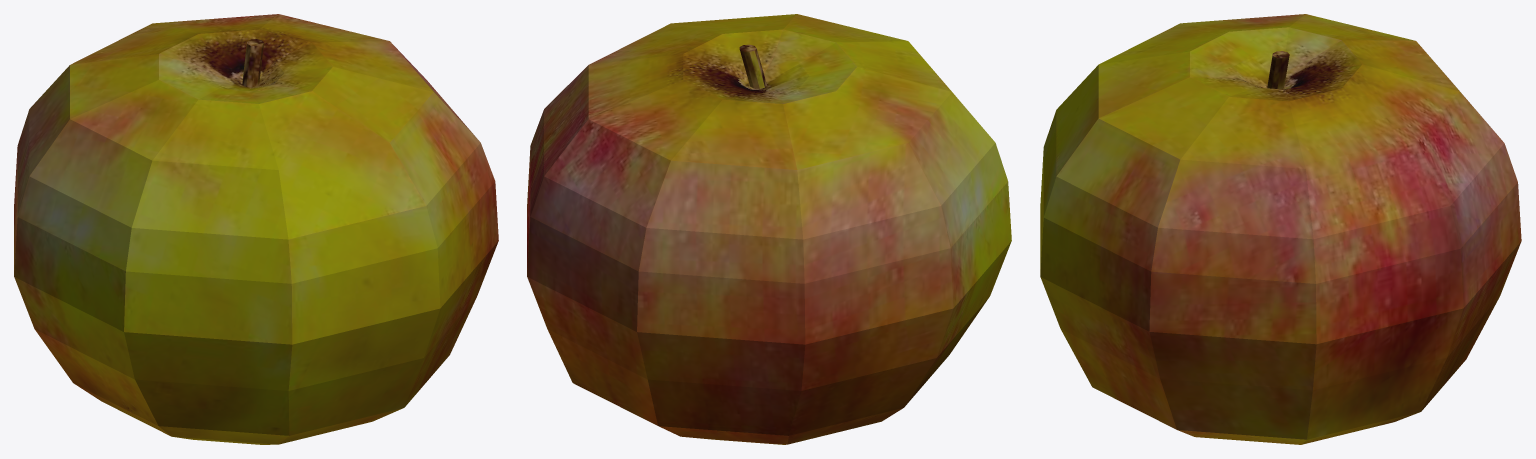
The model's file is apple.glb.
The picture shows the model from 3 angles, left to right: view 1: azimuth 30°, elevation 25°; view 2: azimuth 150°, elevation 25°; view 3: azimuth 270°, elevation 25°; orthographic projection.
Visible parts, largest first — view 1: Apple; view 2: Apple; view 3: Apple.
Part boxes in pixels (x1,y1,x2,y2): Apple: [14, 14, 498, 444]; Apple: [527, 14, 1011, 444]; Apple: [1040, 14, 1521, 444].
Size of the model in its own units: 0.4741 by 0.3752 by 0.4669.
Materials: 1 (1 with a texture image).
